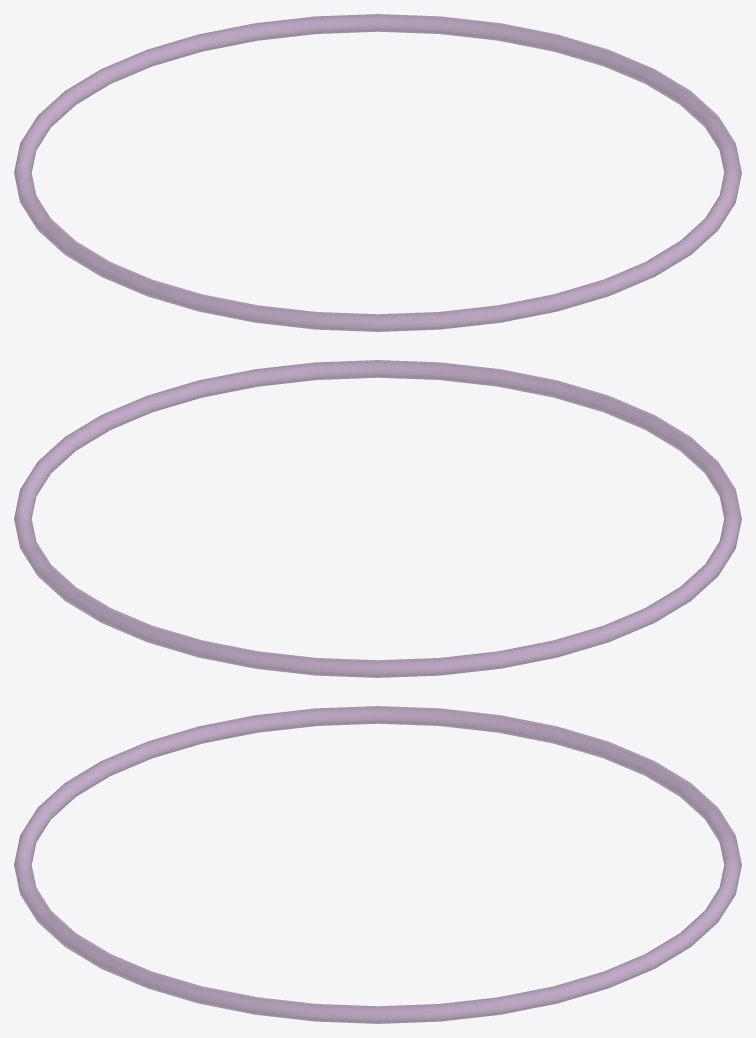
The model's file is loop1.obj.
3 renders of one model, top to bottom at view 1: azimuth 30°, elevation 25°; view 2: azimuth 150°, elevation 25°; view 3: azimuth 270°, elevation 25°, orthographic.
Visible parts, largest first — view 1: Torus001; view 2: Torus001; view 3: Torus001.
Boxes of the visible parts, bbox=[...] form: Torus001: bbox=[14, 14, 741, 331]; Torus001: bbox=[14, 360, 741, 677]; Torus001: bbox=[14, 706, 741, 1023].
Size of the model in its own units: 164 by 4 by 164.
